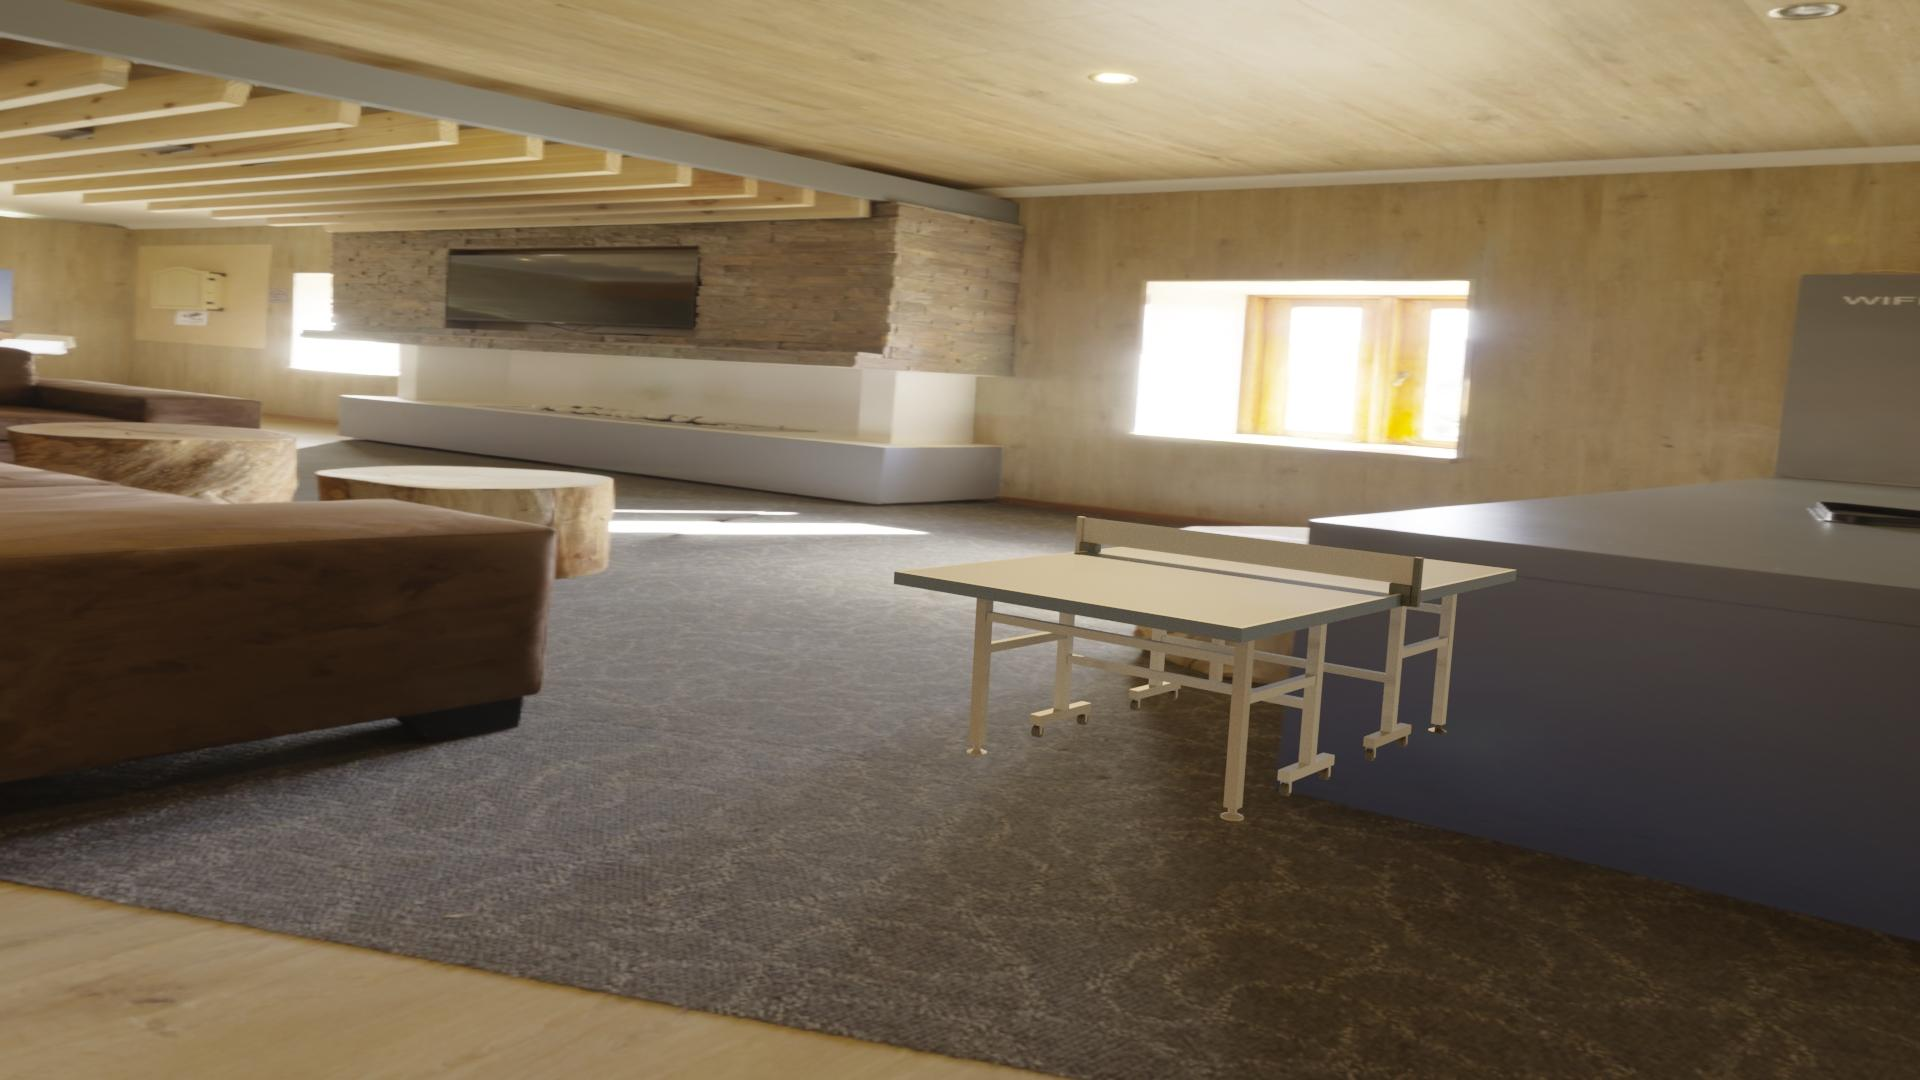table: (902, 535, 1511, 626)
